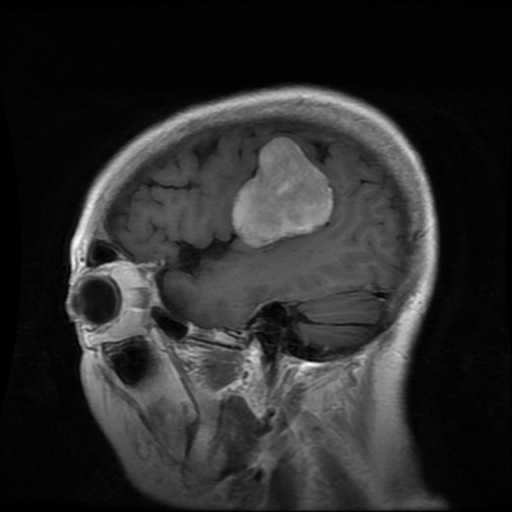meningioma: (231, 136, 335, 249)
